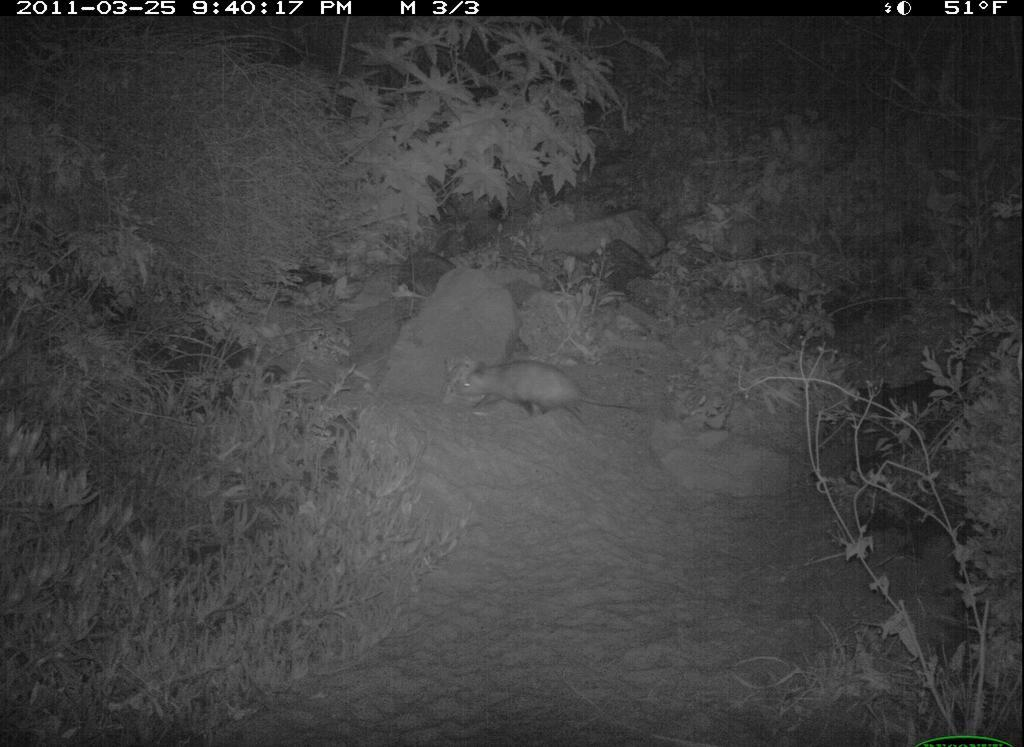opossum: (434, 349, 656, 437)
